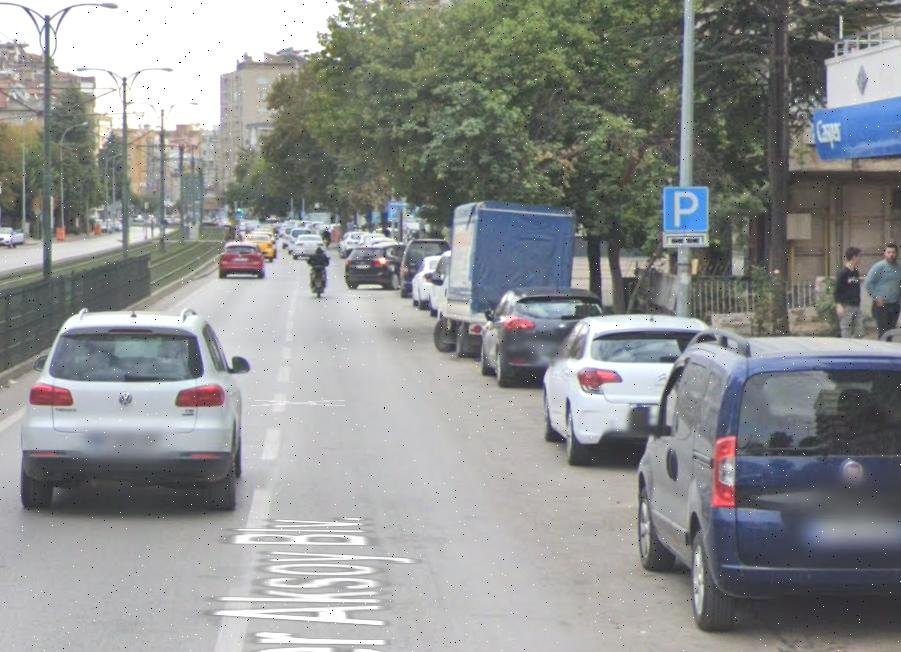park: (663, 188, 715, 236)
